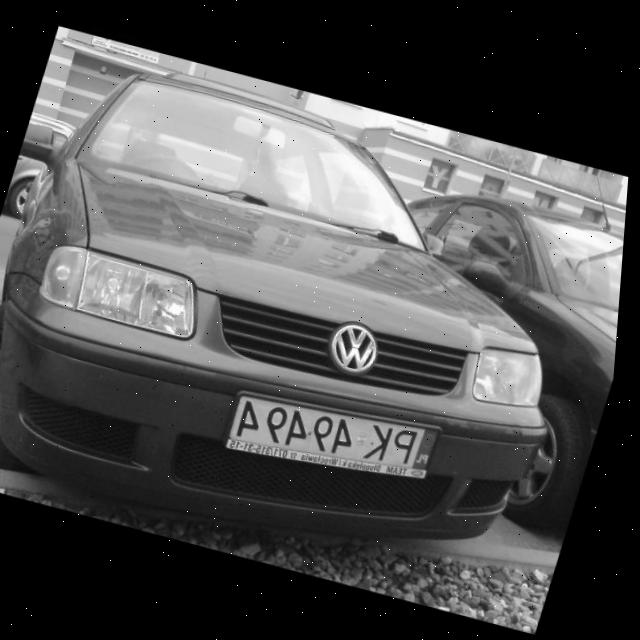license-plates: (224, 395, 437, 479)
